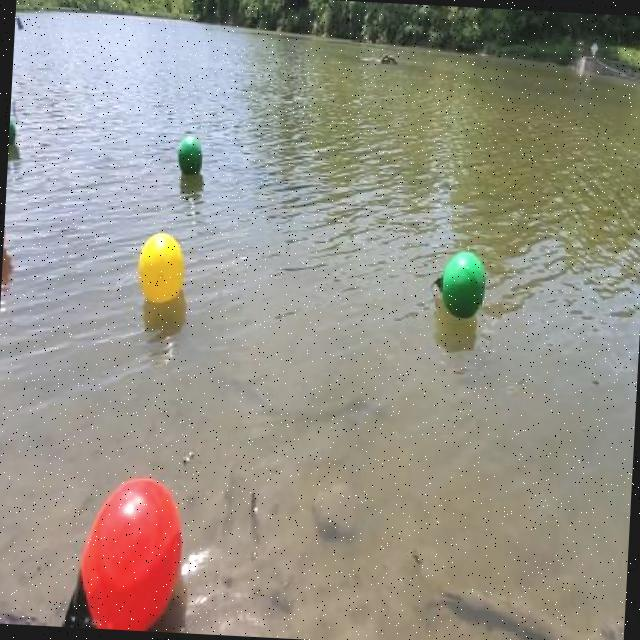buoy: (64, 473, 186, 633), (432, 246, 488, 321), (137, 231, 185, 306), (176, 136, 203, 178)
